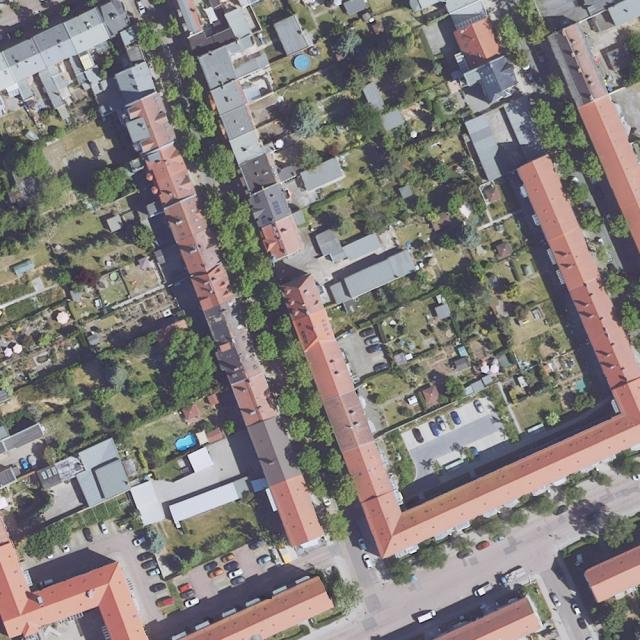ST: (270, 200, 283, 216)
